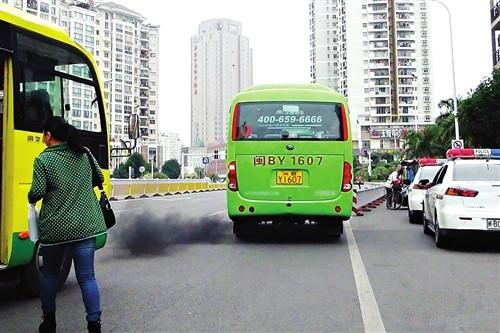smoke: (115, 207, 226, 255)
